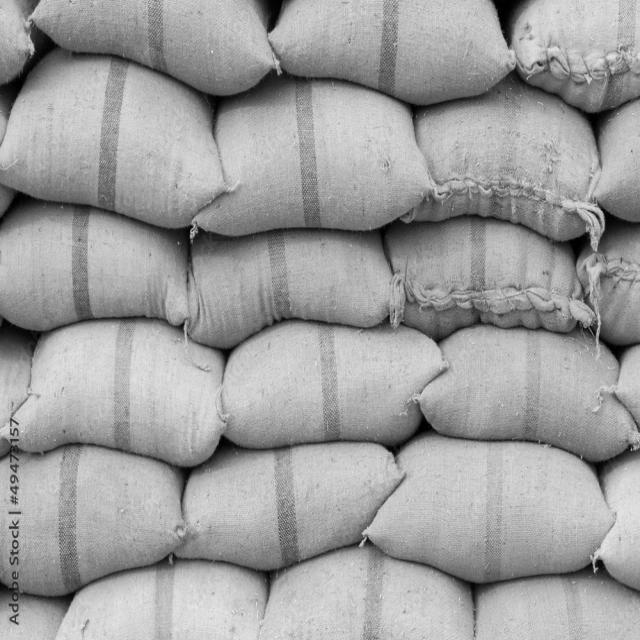sack: (0, 49, 226, 230), (190, 77, 430, 237), (362, 432, 611, 581), (1, 316, 224, 467), (400, 79, 600, 242), (414, 322, 640, 461), (174, 441, 405, 572), (222, 320, 448, 445), (1, 443, 183, 597), (383, 214, 594, 337), (268, 1, 515, 106), (186, 228, 392, 348), (27, 2, 279, 96), (1, 202, 190, 327), (259, 543, 474, 640), (54, 558, 269, 640), (509, 2, 640, 110), (473, 570, 640, 640)
